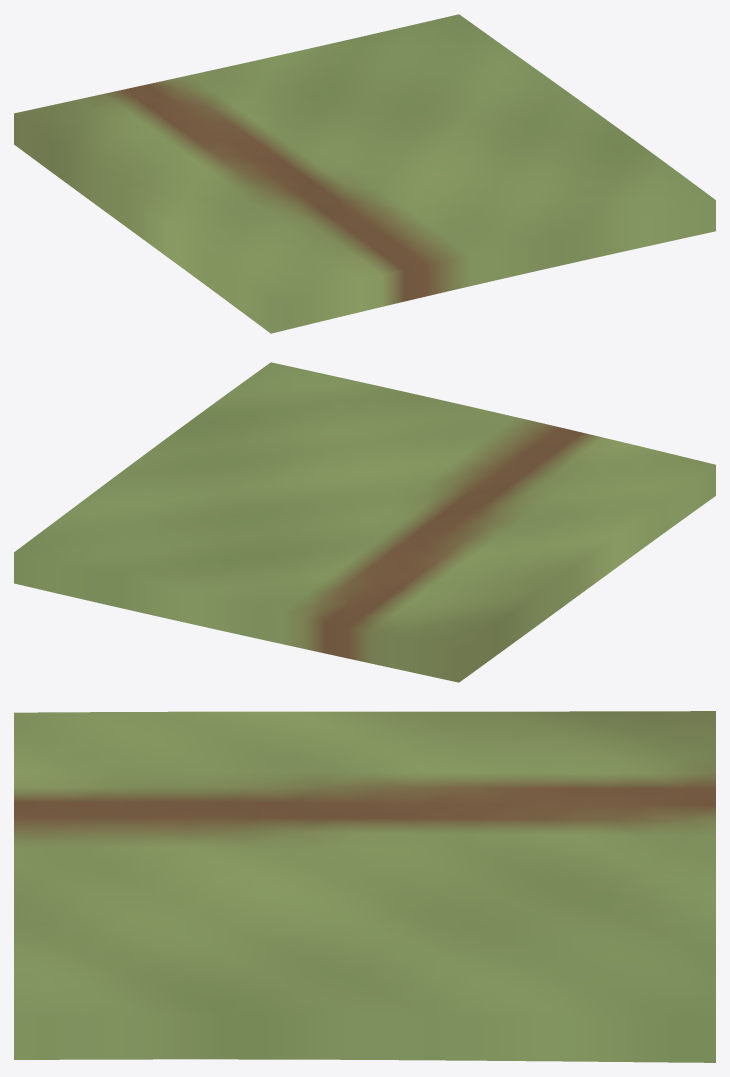
3 renders of one model, top to bottom at view 1: azimuth 30°, elevation 25°; view 2: azimuth 150°, elevation 25°; view 3: azimuth 270°, elevation 25°, orthographic. The views are drawn at different scales.
Parts seen in each view (by area): view 1: terrain; view 2: terrain; view 3: terrain.
Part boxes in pixels (x1,y1,x2,y2): terrain: [14, 14, 715, 333]; terrain: [14, 362, 715, 682]; terrain: [14, 711, 715, 1062].
Size of the model in its own units: 30 by 2.6 by 30.
